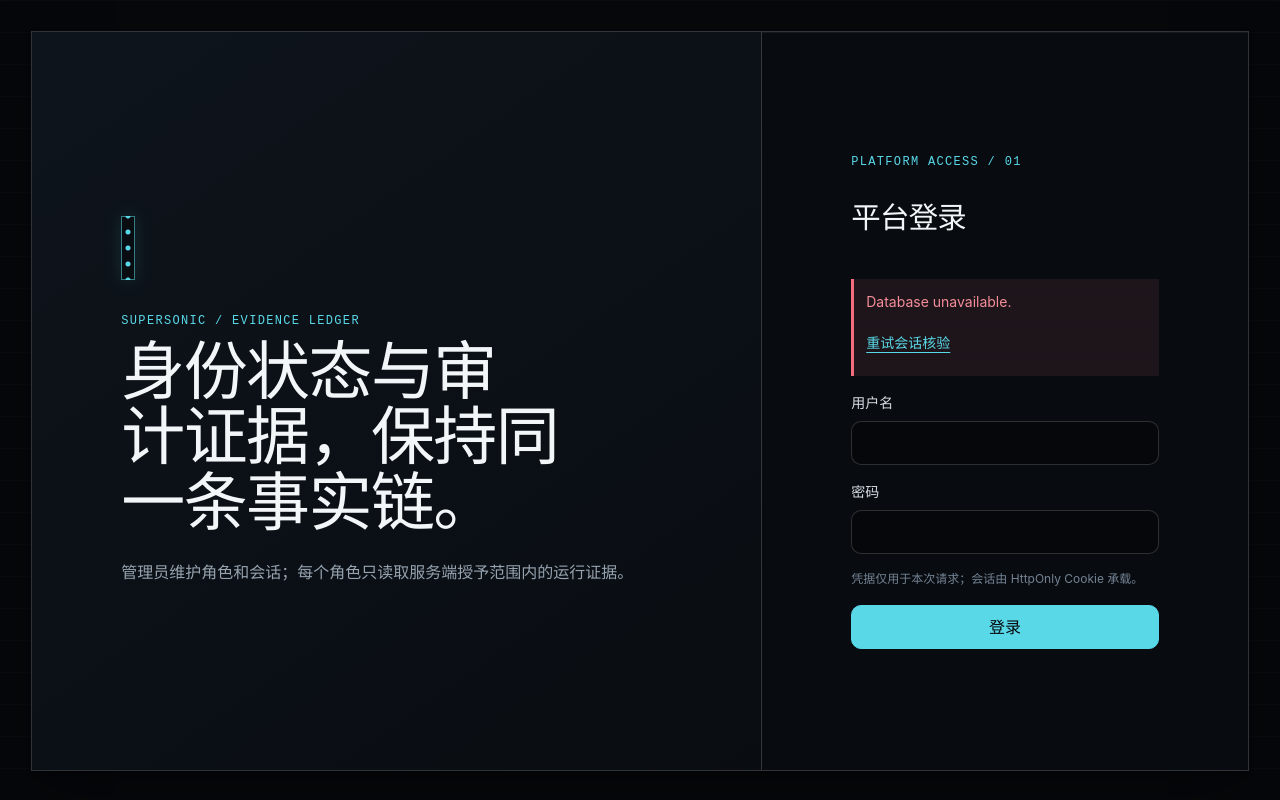
it: PlatformConsole › shows actionable retry for non-auth identity errors
Expected: the message shows "Database unavailable.", [866,293,1012,310]
Click the button "重试会话核验". click: click(908, 342)
box: [866,320,950,364]
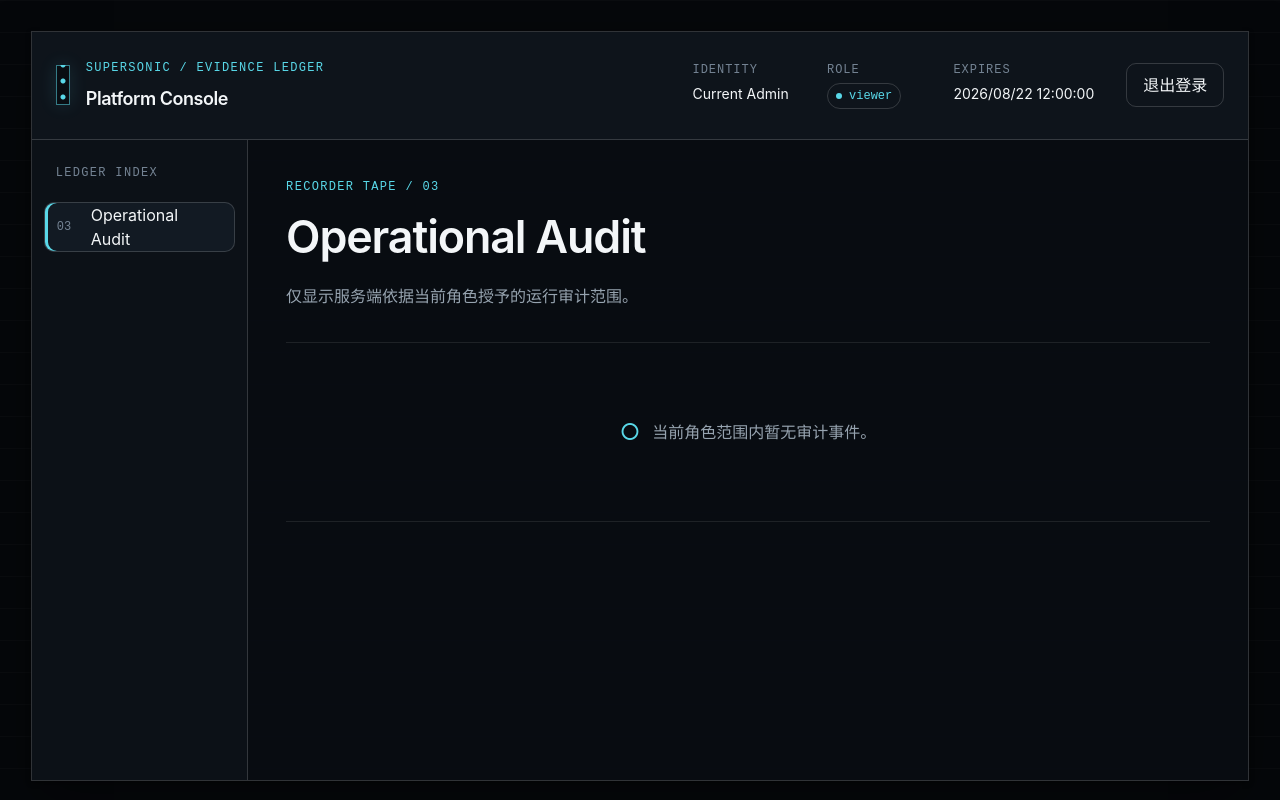
Now the tab "03 Operational Audit" is shown, box [44,202,235,252]
